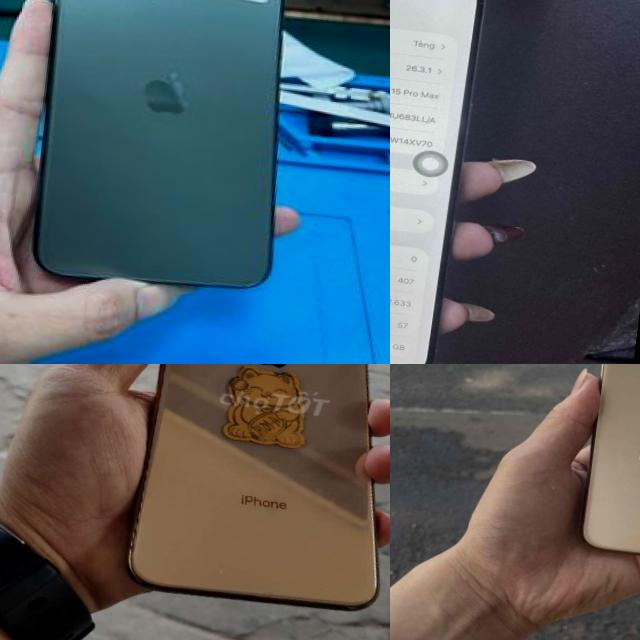gen_11: (1, 0, 327, 322), (560, 364, 640, 582)
gen_15: (390, 0, 495, 364)
gen_x_xs: (112, 364, 390, 630)
